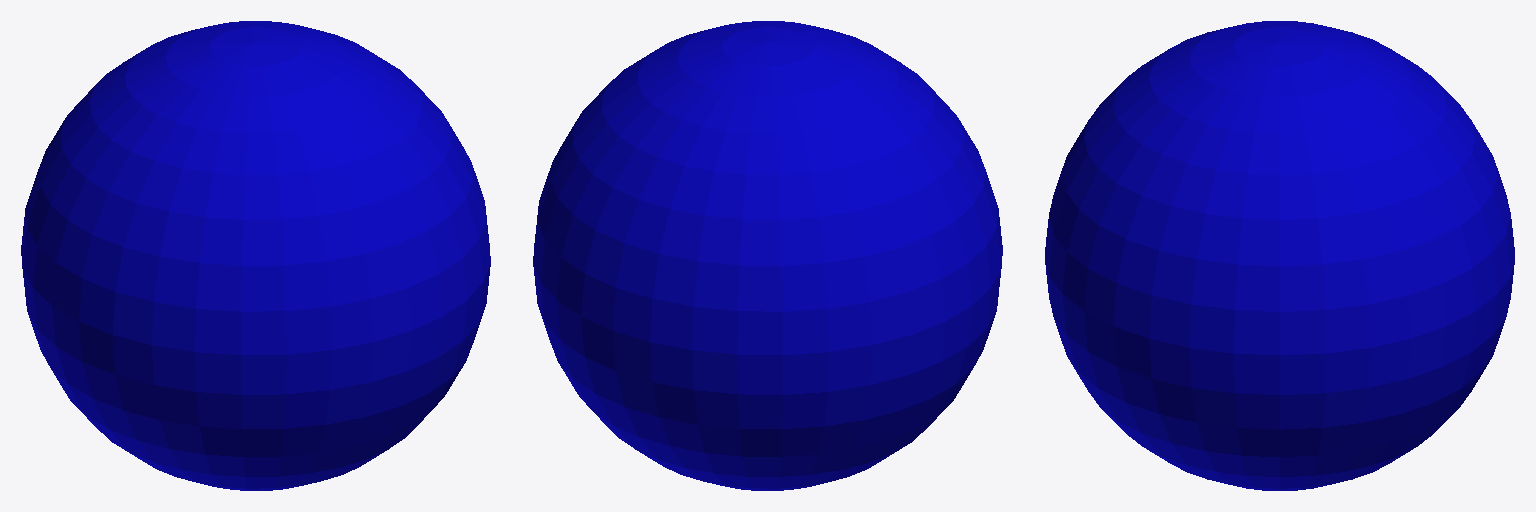
The model's file is CheckerSphere.obj.
The picture shows the model from 3 angles: view 1: azimuth 30°, elevation 25°; view 2: azimuth 150°, elevation 25°; view 3: azimuth 270°, elevation 25°; orthographic projection.
Visible parts, largest first — view 1: Sphere; view 2: Sphere; view 3: Sphere.
Part boxes in pixels (x1,y1,x2,y2): Sphere: (21, 21, 490, 490); Sphere: (533, 21, 1002, 490); Sphere: (1045, 21, 1514, 490).
Size of the model in its own units: 2 by 2 by 2.